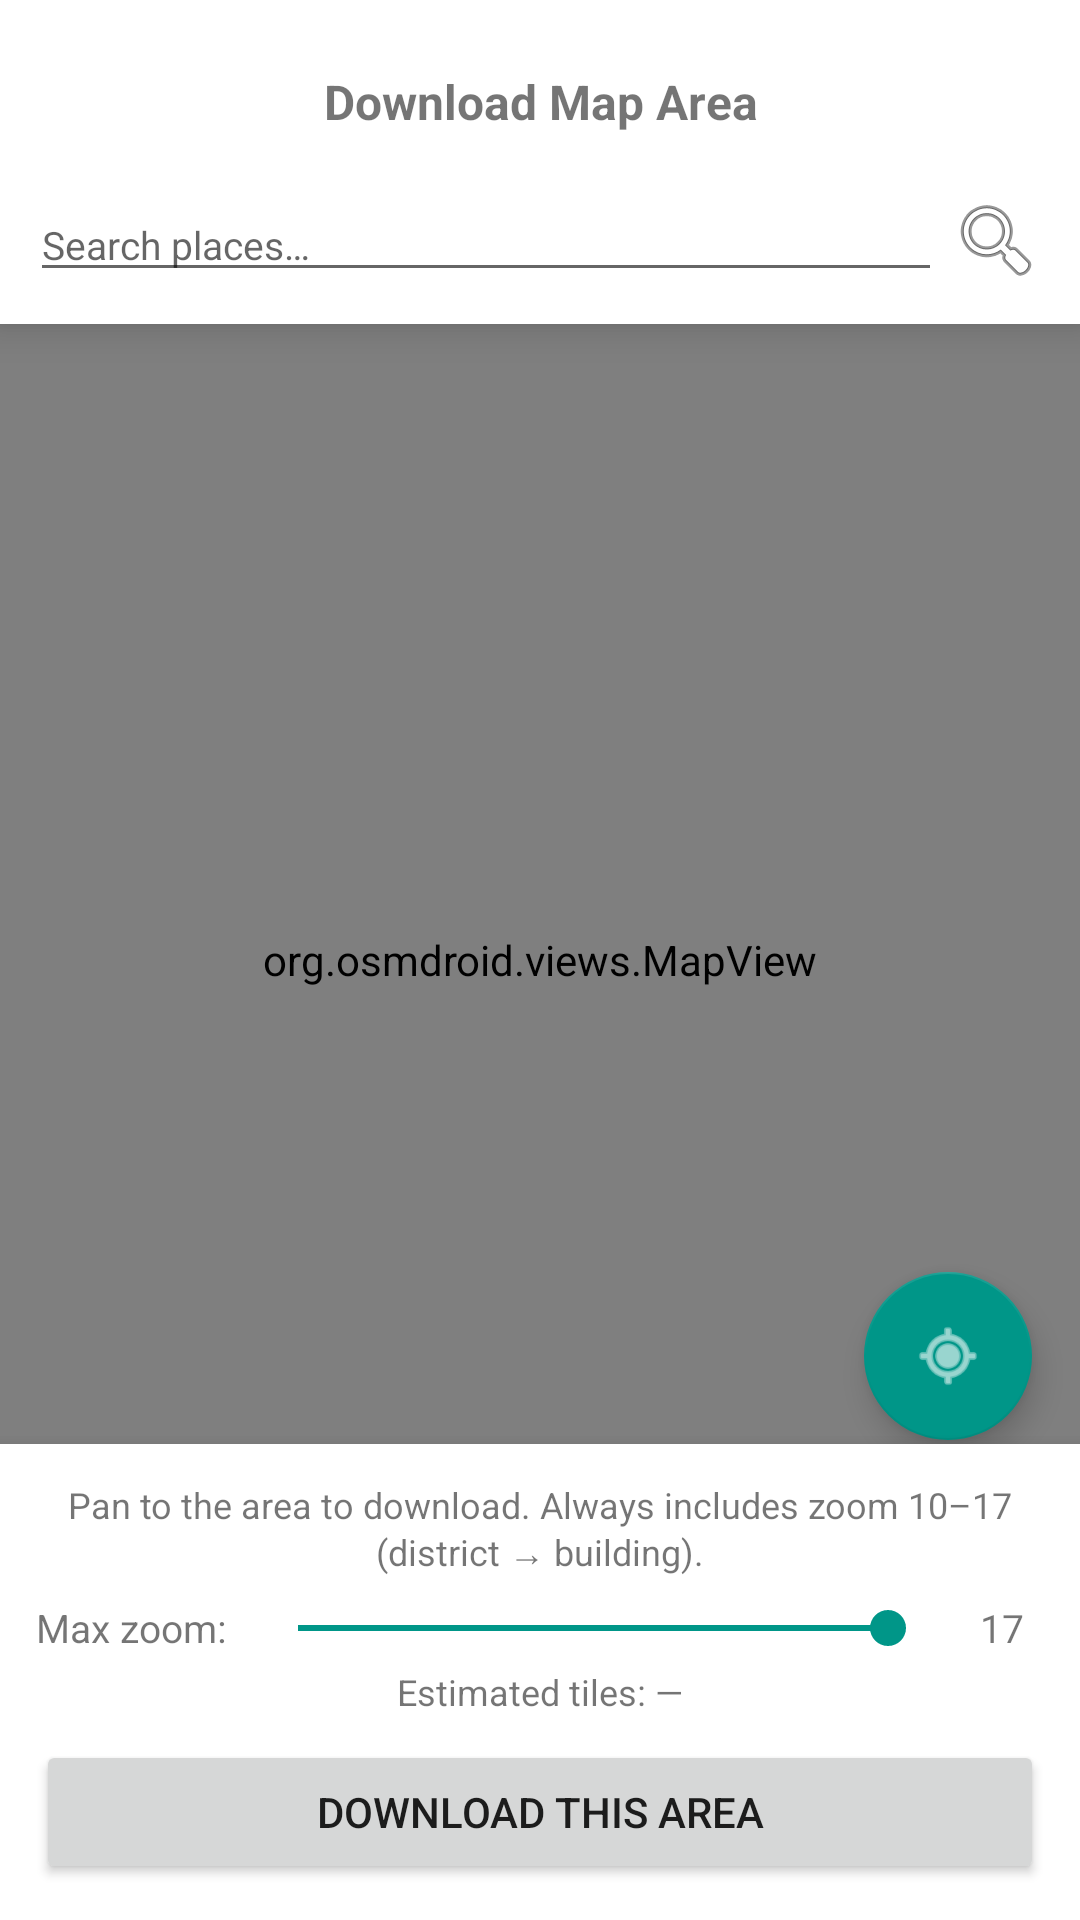

Named icons in this screenshot (1080px x 1920px) and their centers, point (x, y):
Use my location: point (948, 1356)
